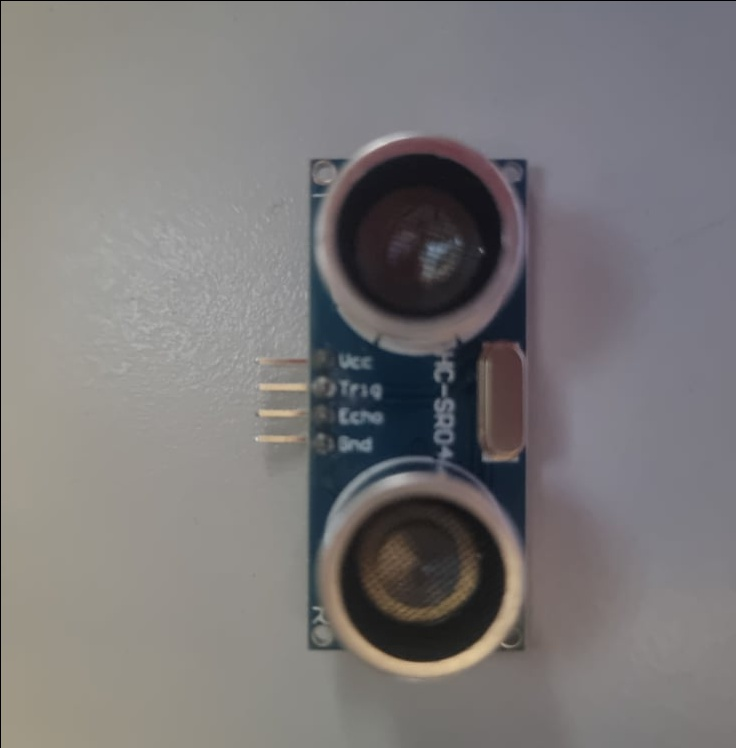SENSOR: (253, 122, 530, 681)
